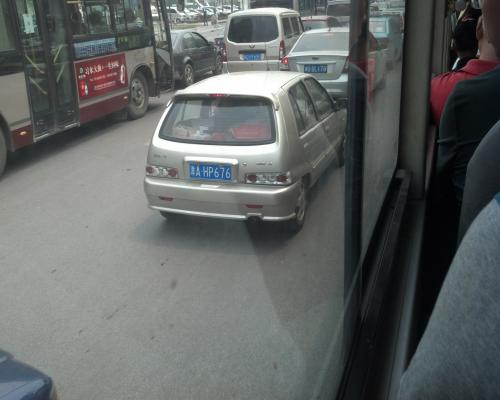Carplate: (186, 158, 234, 183)
